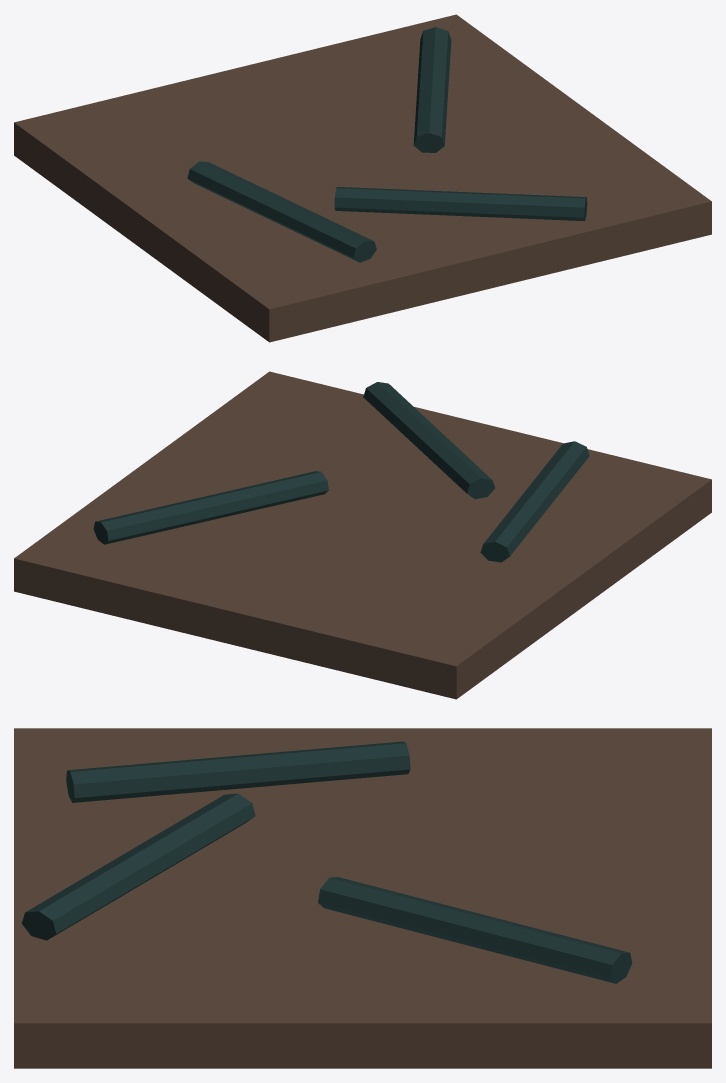
File: df_v2_muddy_road_tile_a.glb
3 renders of one model, top to bottom at view 1: azimuth 30°, elevation 25°; view 2: azimuth 150°, elevation 25°; view 3: azimuth 270°, elevation 25°, orthographic. The views are drawn at different scales.
Parts seen in each view (by area): view 1: chunky_floor_slab, surface_root_2, surface_root_0, surface_root_1; view 2: chunky_floor_slab, surface_root_1, surface_root_2, surface_root_0; view 3: chunky_floor_slab, surface_root_0, surface_root_1, surface_root_2.
Part boxes in pixels (<box>): chunky_floor_slab: <box>14,14,711,342</box>; surface_root_2: <box>334,187,587,220</box>; surface_root_0: <box>187,161,376,262</box>; surface_root_1: <box>413,27,451,152</box>; chunky_floor_slab: <box>14,371,711,699</box>; surface_root_1: <box>93,471,328,544</box>; surface_root_2: <box>363,382,495,499</box>; surface_root_0: <box>480,441,589,562</box>; chunky_floor_slab: <box>14,728,711,1068</box>; surface_root_0: <box>66,741,410,802</box>; surface_root_1: <box>318,877,632,983</box>; surface_root_2: <box>21,793,255,940</box>.
Bounding box in the file's own units: 1.12 × 0.1402 × 1.12.
